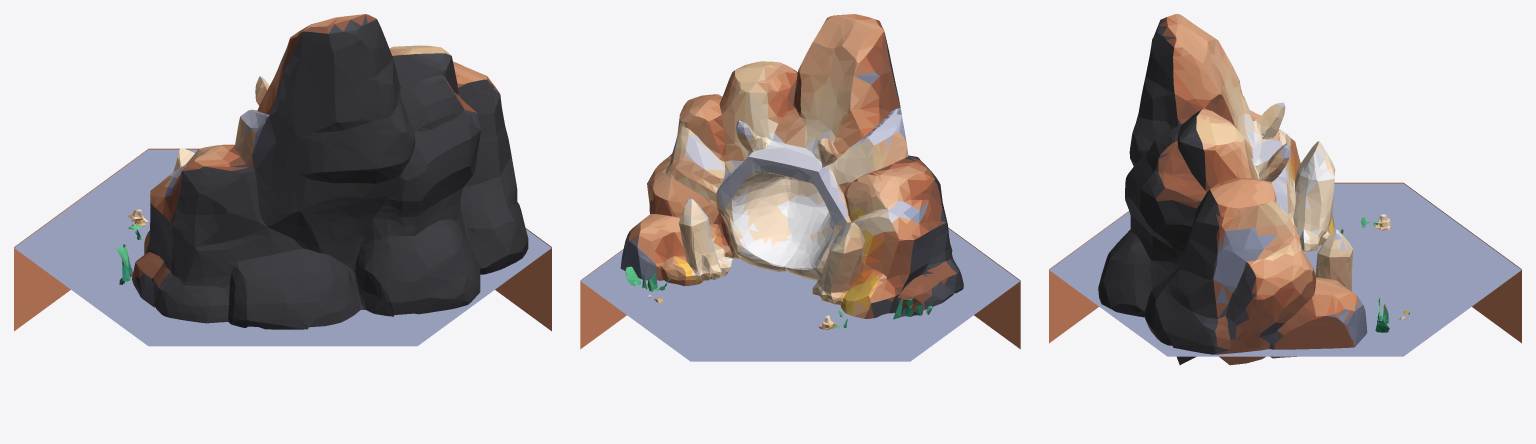
Rendered from sun-cave.glb.
3 views of the same model, side by side, from view 1: azimuth 30°, elevation 25°; view 2: azimuth 150°, elevation 25°; view 3: azimuth 270°, elevation 25° (orthographic). The views are drawn at different scales.
Parts seen in each view (by area): view 1: world, hexBase; view 2: world, hexBase; view 3: world, hexBase.
Part boxes in pixels (x1=…): world: x1=115, y1=14, x2=528, y2=329; hexBase: x1=14, y1=148, x2=551, y2=346; world: x1=620, y1=14, x2=963, y2=330; hexBase: x1=580, y1=228, x2=1020, y2=361; world: x1=1098, y1=14, x2=1409, y2=365; hexBase: x1=1049, y1=182, x2=1521, y2=356.
Bounding box in the file's own units: 1 × 0.855 × 1.15.
3 materials, 3 textured.
